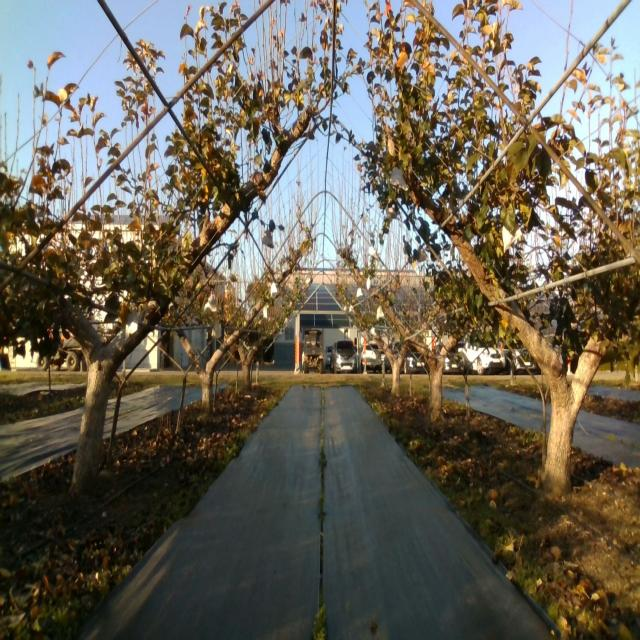pearbags: (502, 224, 522, 254), (389, 166, 408, 191), (125, 310, 140, 337), (262, 226, 274, 248), (204, 294, 218, 312)
